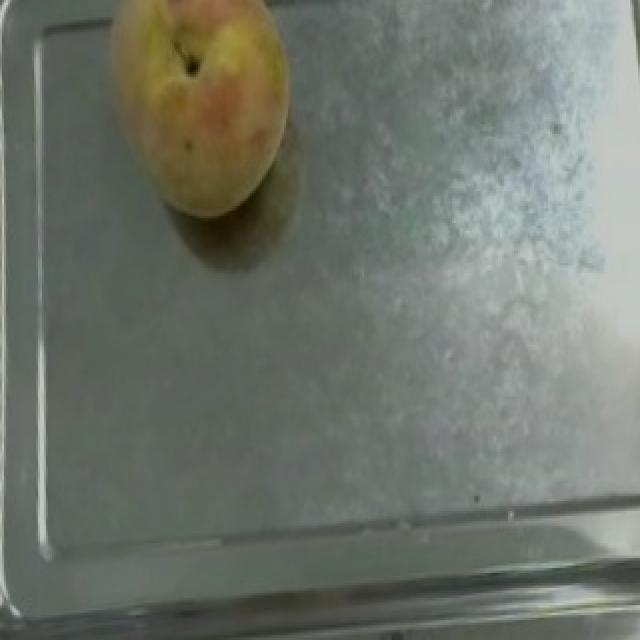Fruit: (76, 0, 306, 228)
